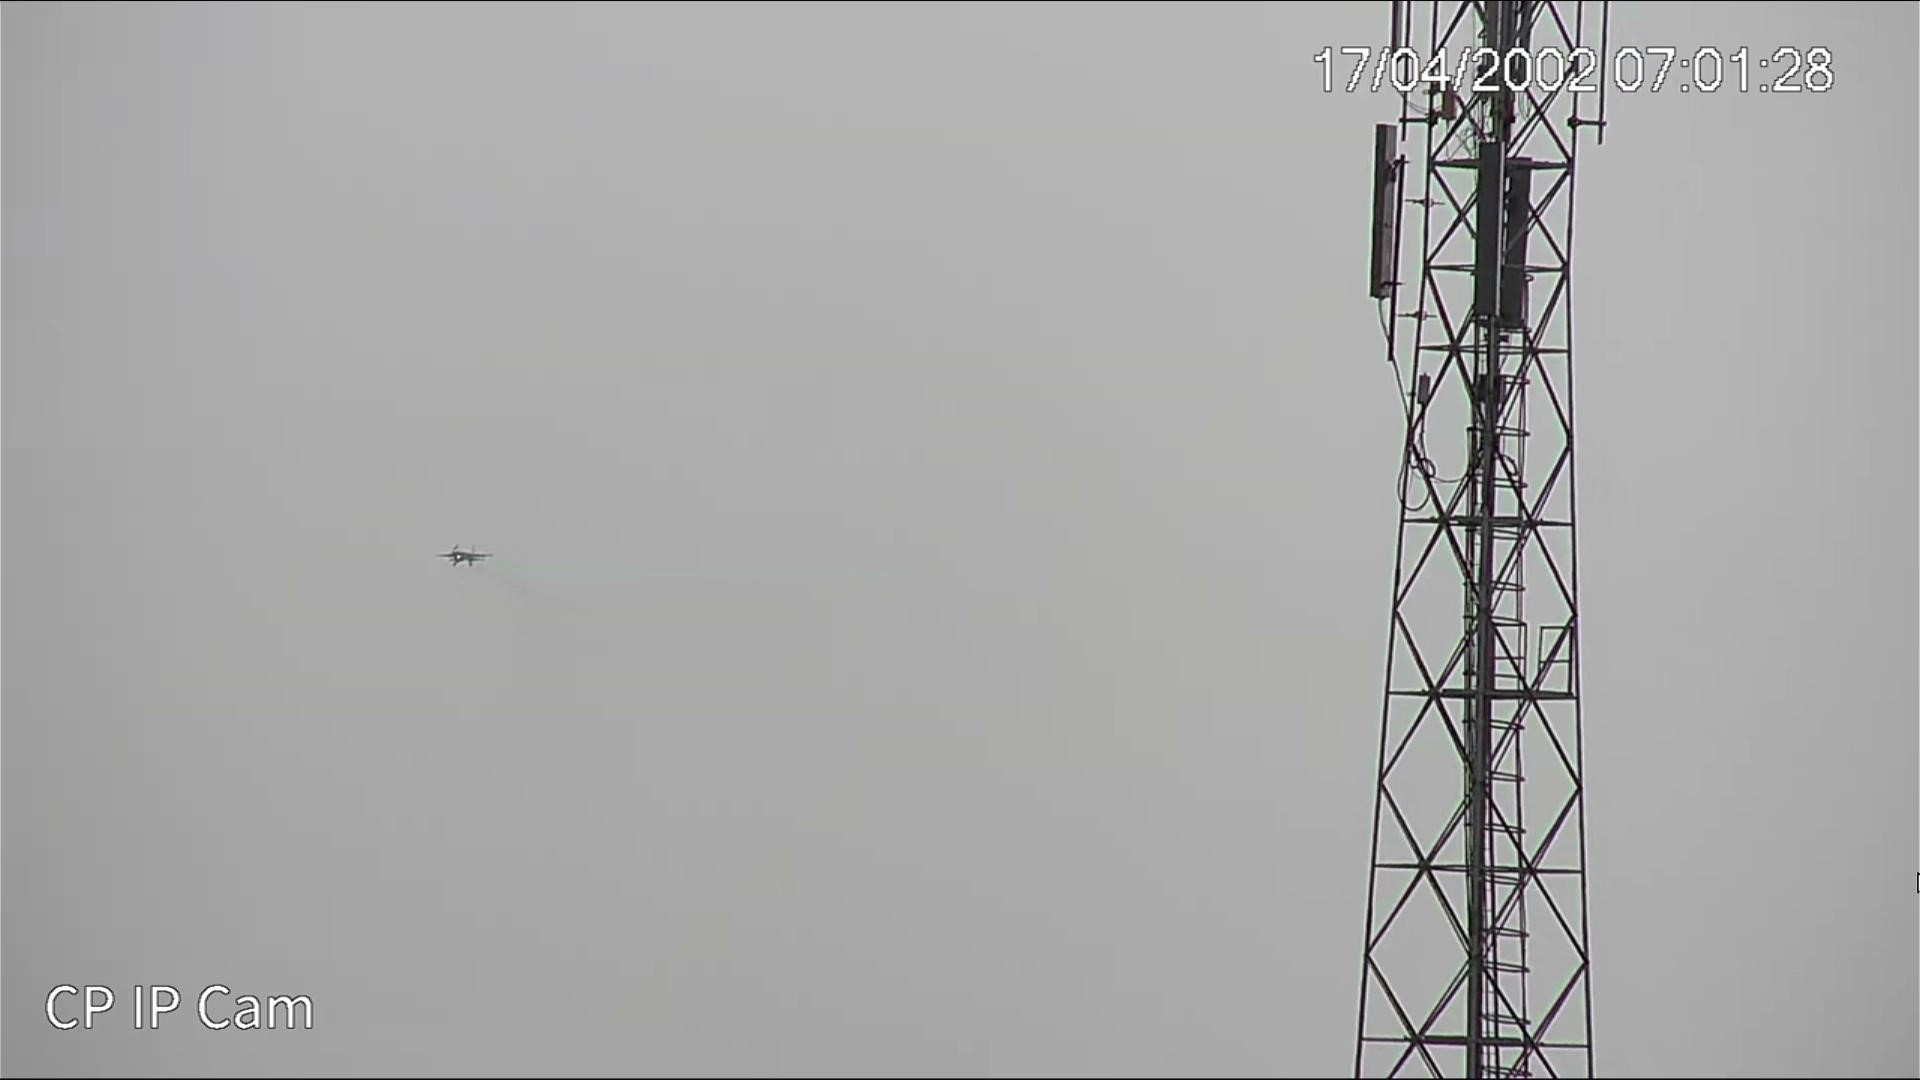SU_30: (438, 543, 495, 567)
